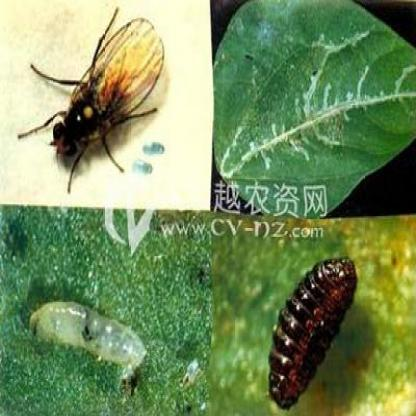whorl-maggot: (259, 244, 361, 416), (24, 290, 149, 376)
